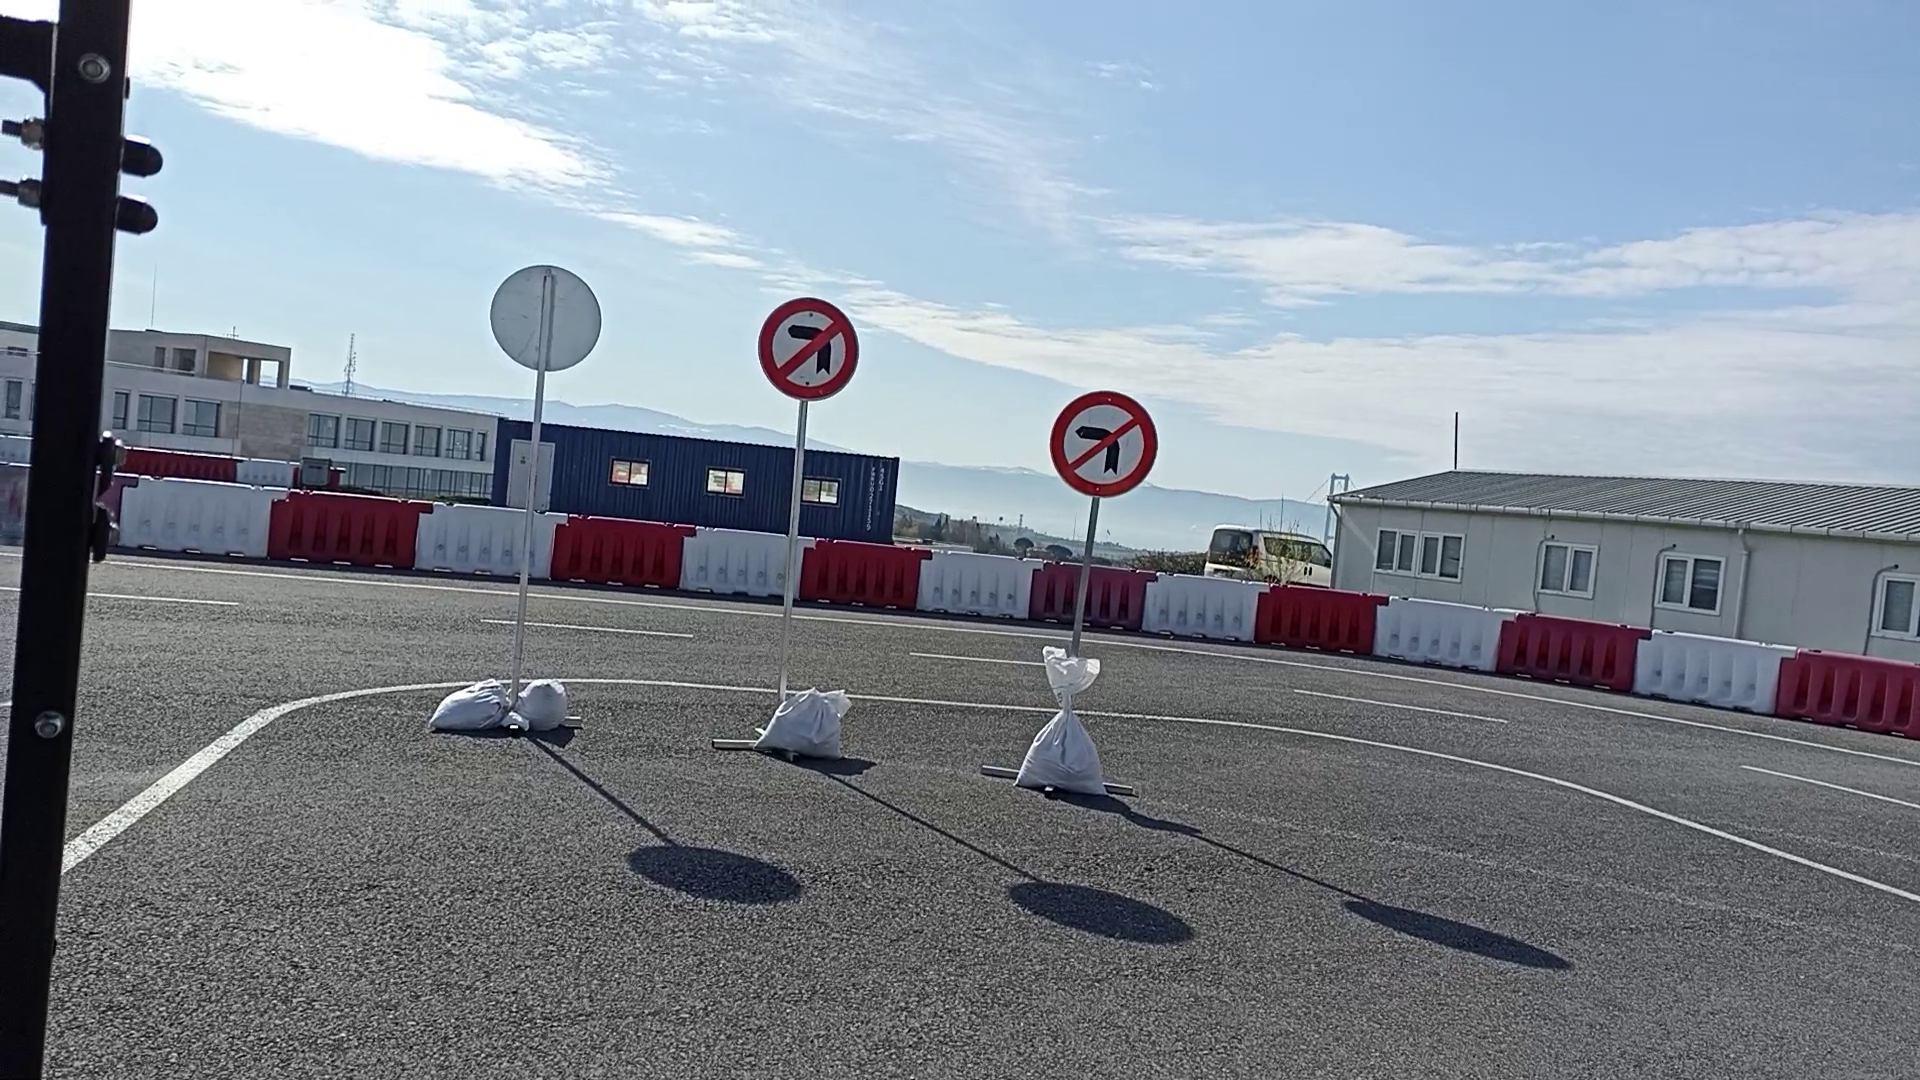noleft: (1048, 386, 1160, 498), (756, 295, 862, 404)
